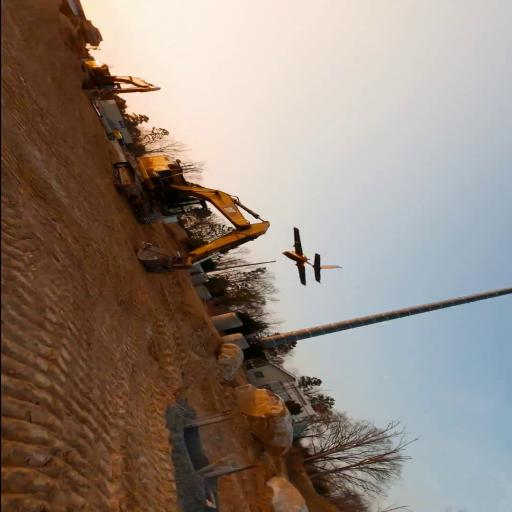uav: (274, 226, 344, 288)
